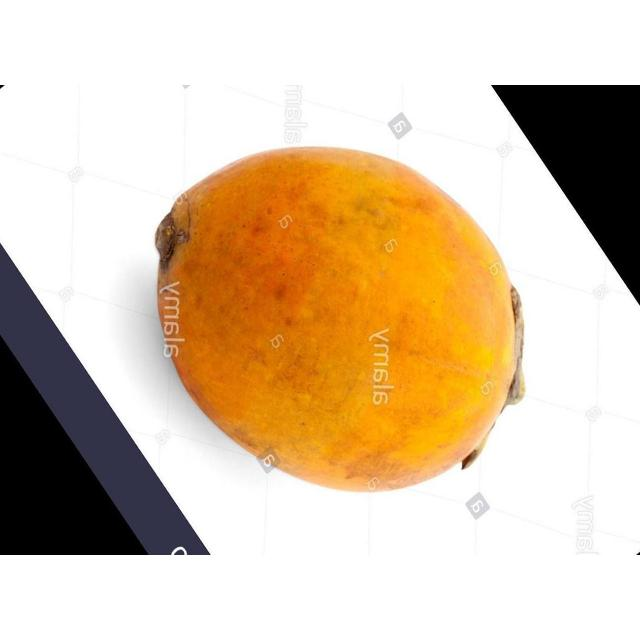good: (152, 147, 522, 495)
